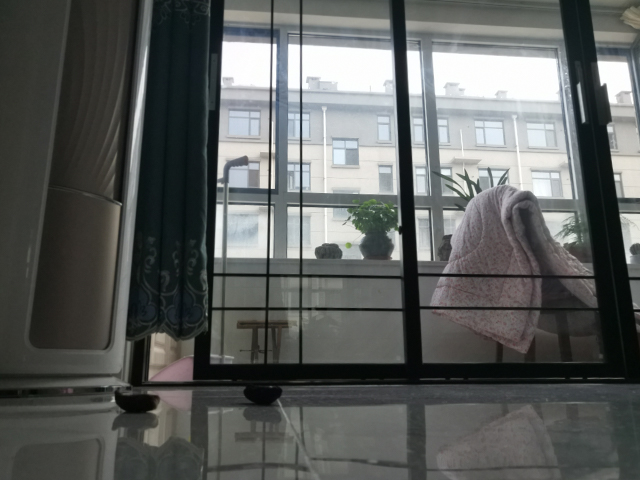curtain: (123, 1, 217, 343)
feces: (109, 388, 162, 416), (241, 384, 285, 406)
stool: (234, 319, 290, 363)
